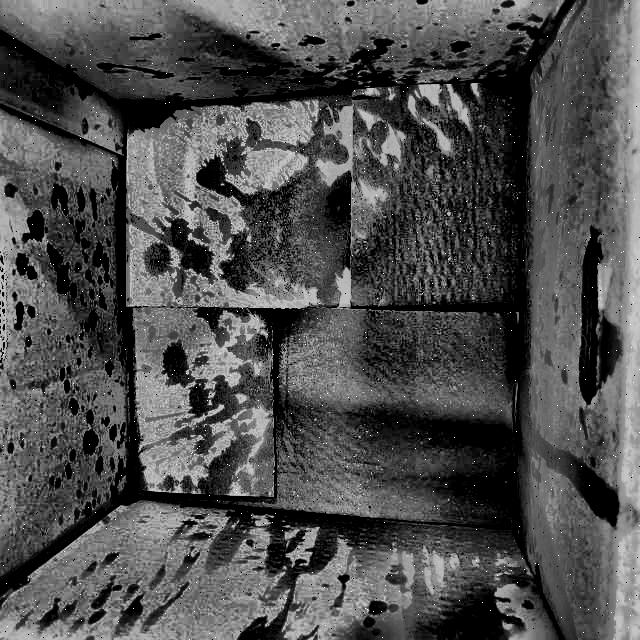box: (1, 0, 640, 639)
wet: (125, 66, 533, 312), (126, 319, 519, 536)
